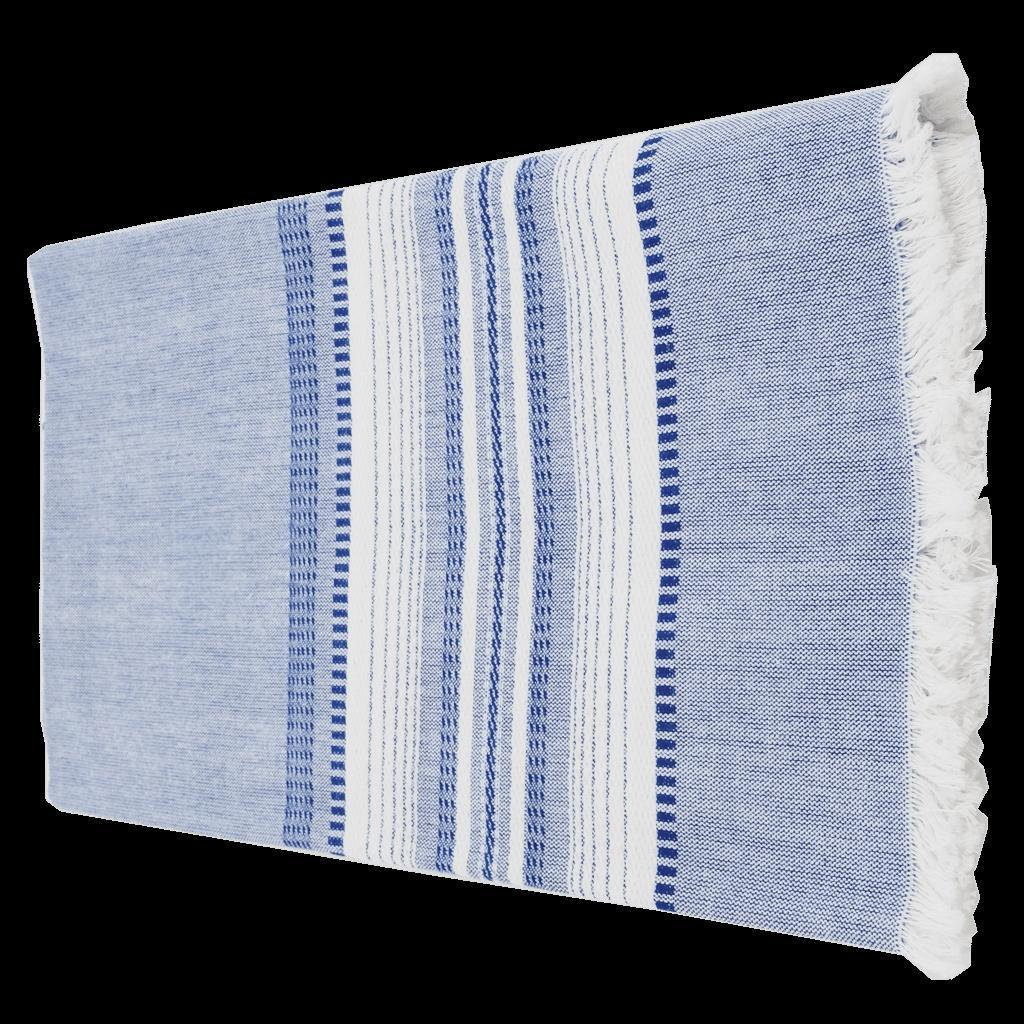towel: (10, 92, 1024, 928)
